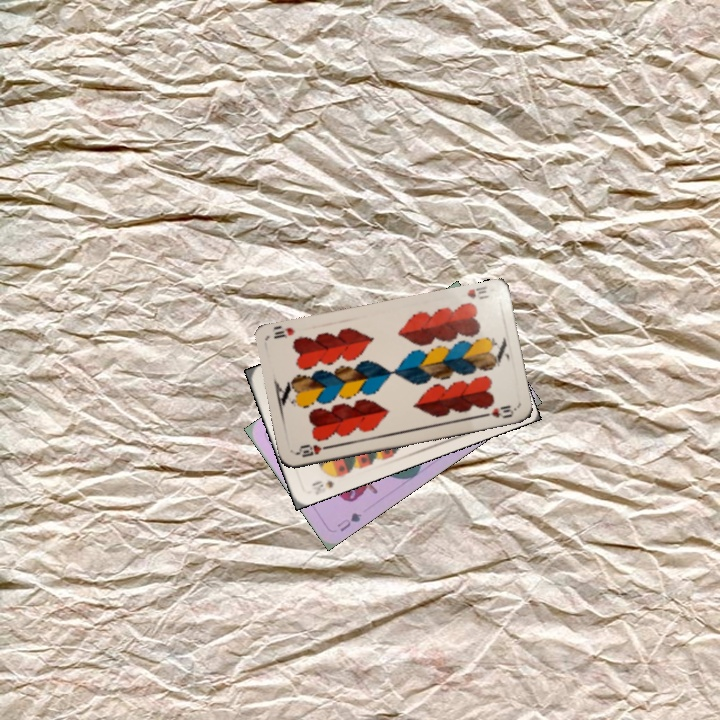GU: (333, 508, 364, 534)
H10: (292, 440, 332, 460), (463, 283, 492, 302)
S10: (308, 471, 343, 497)
